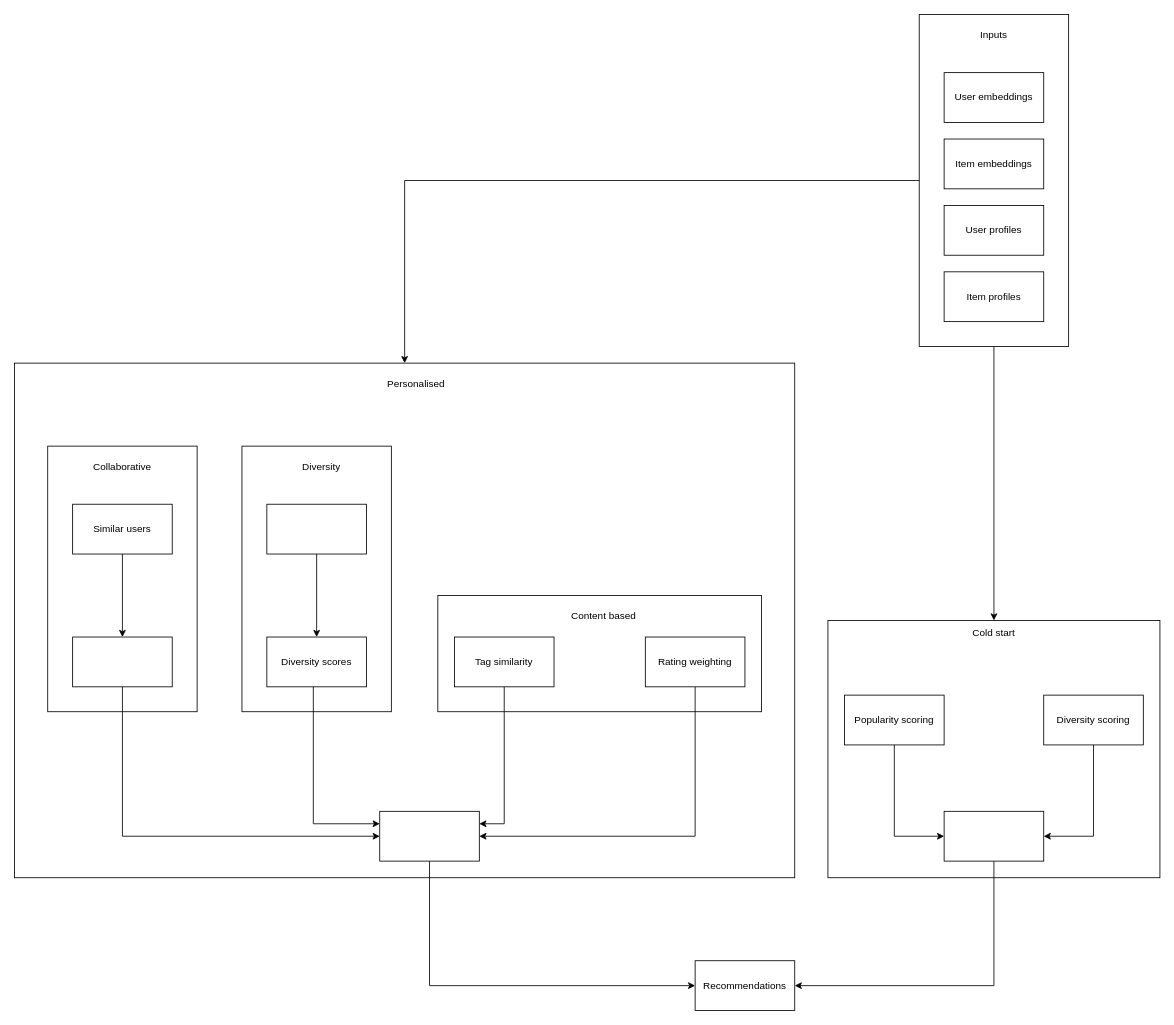
Image size: 1174x1025. Some labels were removed from this diagram. The shapes that lost their labels are listed below. From the top down, each one's centre as x and y in pixels, then its label:
the point at 316,528: Genre representation
the point at 122,661: CF scores
the point at 429,835: Final score
the point at 993,835: Cold start score
